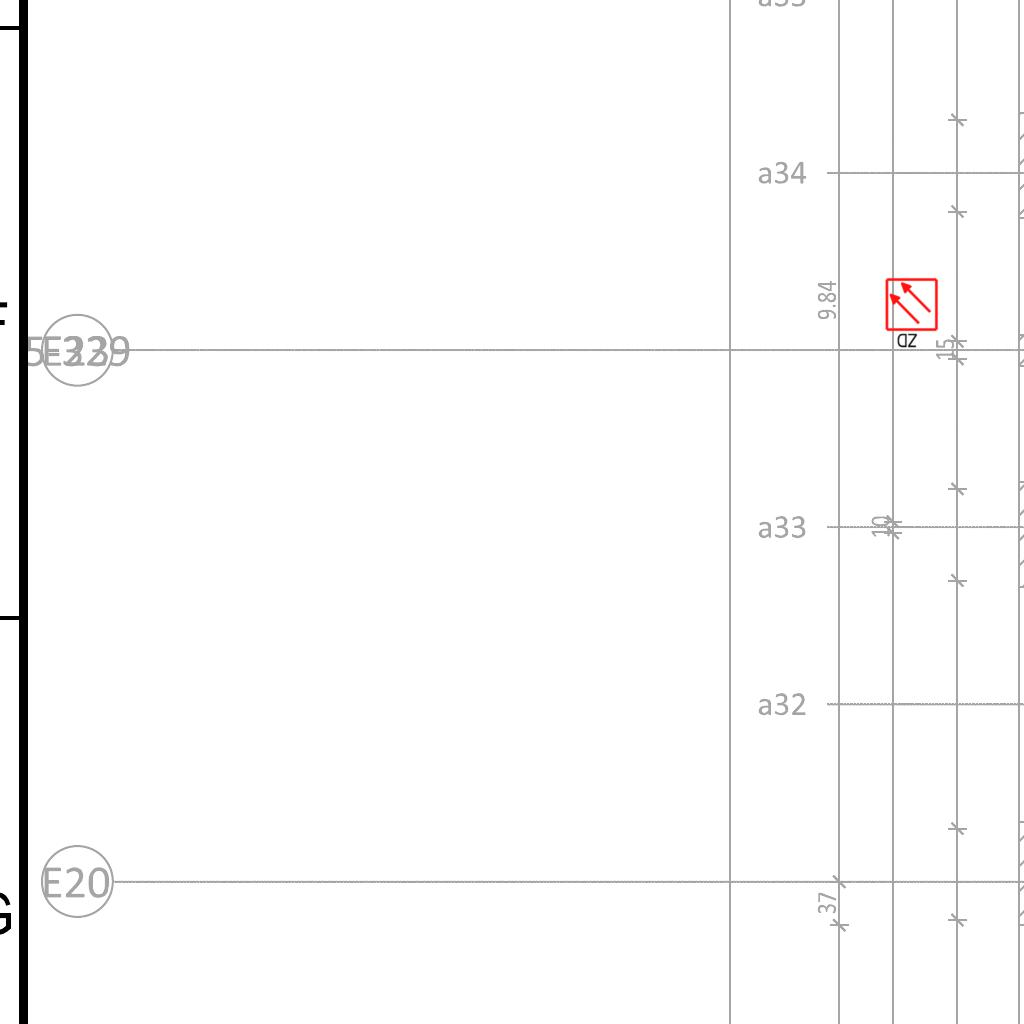ZD_Melder_in_Zwischendecke_mit_Revisionsoeffnung_mind_40_x_40_cm: (884, 277, 941, 351)
